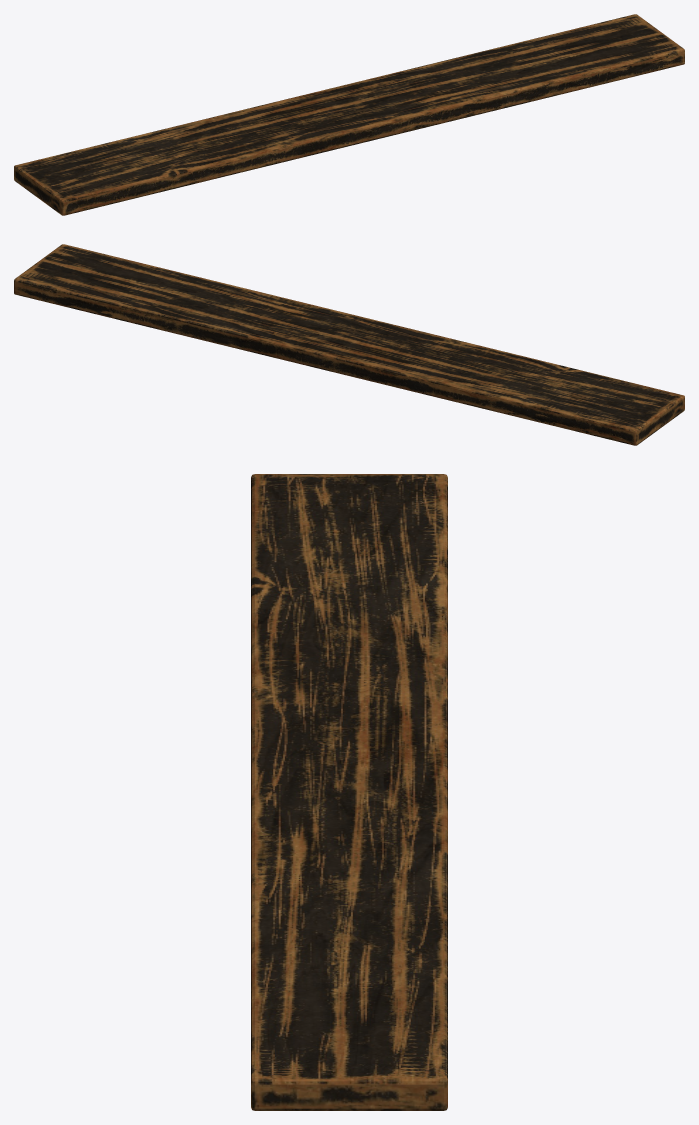
File: Tabla.fbx
3 views of the same model, one above another, from view 1: azimuth 30°, elevation 25°; view 2: azimuth 150°, elevation 25°; view 3: azimuth 270°, elevation 25° (orthographic). The views are drawn at different scales.
Visible parts, largest first — view 1: defaultMaterial; view 2: defaultMaterial; view 3: defaultMaterial.
Part boxes in pixels (left/top/right/bottom): defaultMaterial: left=14, top=14, right=684, bottom=215; defaultMaterial: left=14, top=244, right=684, bottom=445; defaultMaterial: left=251, top=474, right=447, bottom=1110.
Size of the model in its own units: 200 by 4.84 by 27.42.
1 material, 1 textured.
